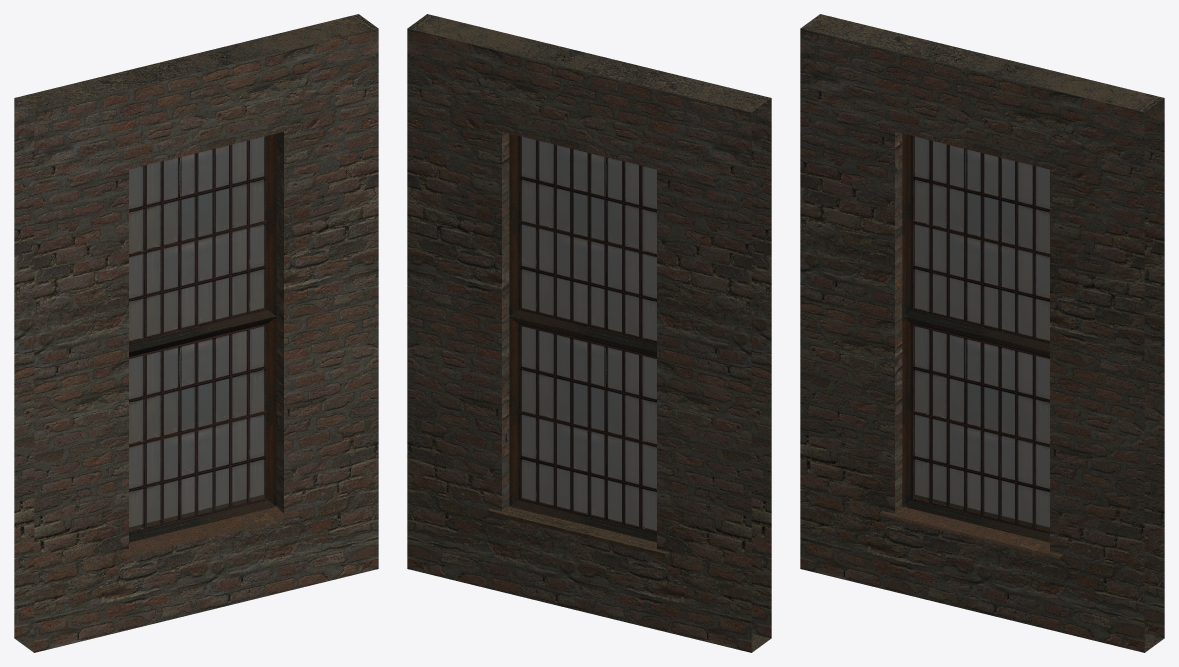
File: wall_hr_1_m_2.obj
The picture shows the model from 3 angles, left to right: view 1: azimuth 30°, elevation 25°; view 2: azimuth 150°, elevation 25°; view 3: azimuth 330°, elevation 25°; orthographic projection.
Visible parts, largest first — view 1: wall_hr_1_m_2; view 2: wall_hr_1_m_2; view 3: wall_hr_1_m_2.
Part boxes in pixels (x1,y1,x2,y2): wall_hr_1_m_2: (14,14,378,652); wall_hr_1_m_2: (407,14,771,652); wall_hr_1_m_2: (800,14,1164,652).
Size of the model in its own units: 4 by 6 by 0.505.
